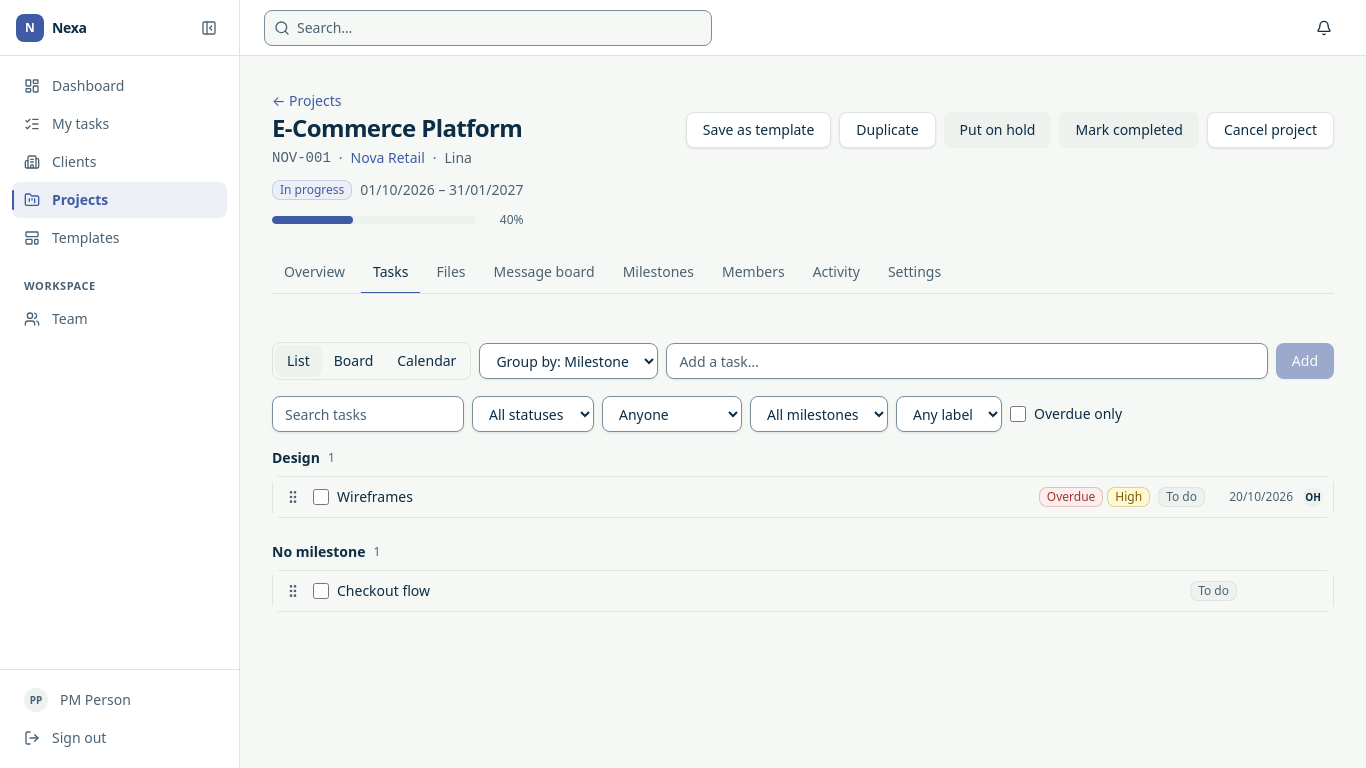
Project tasks (FR-TSK-09) › selecting tasks shows the bulk bar and sends one bulk request (FR-TSK-11)
Click the checkbox named "Select Wireframes".
click(321, 497)  # box [313, 489, 329, 505]
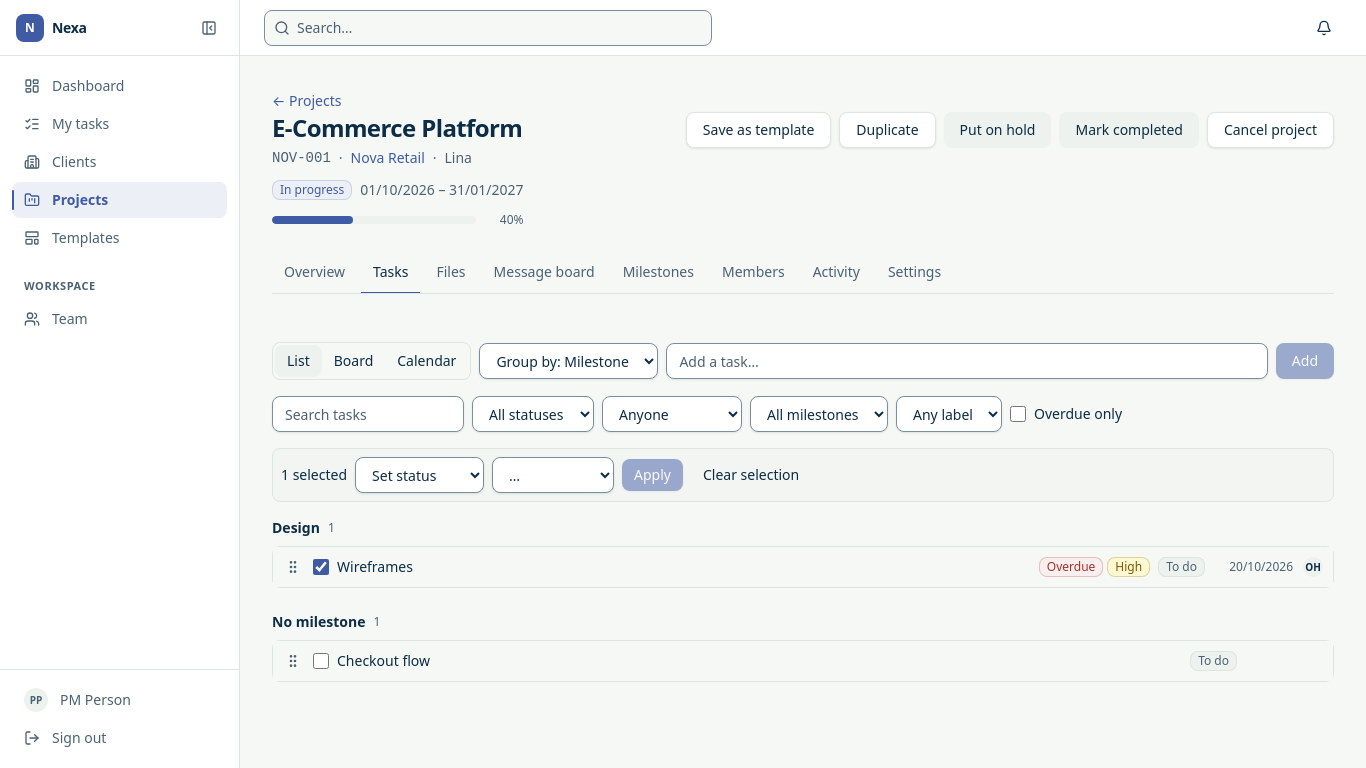
Click the checkbox named "Select Checkout flow".
click(321, 661)  # box [313, 653, 329, 669]
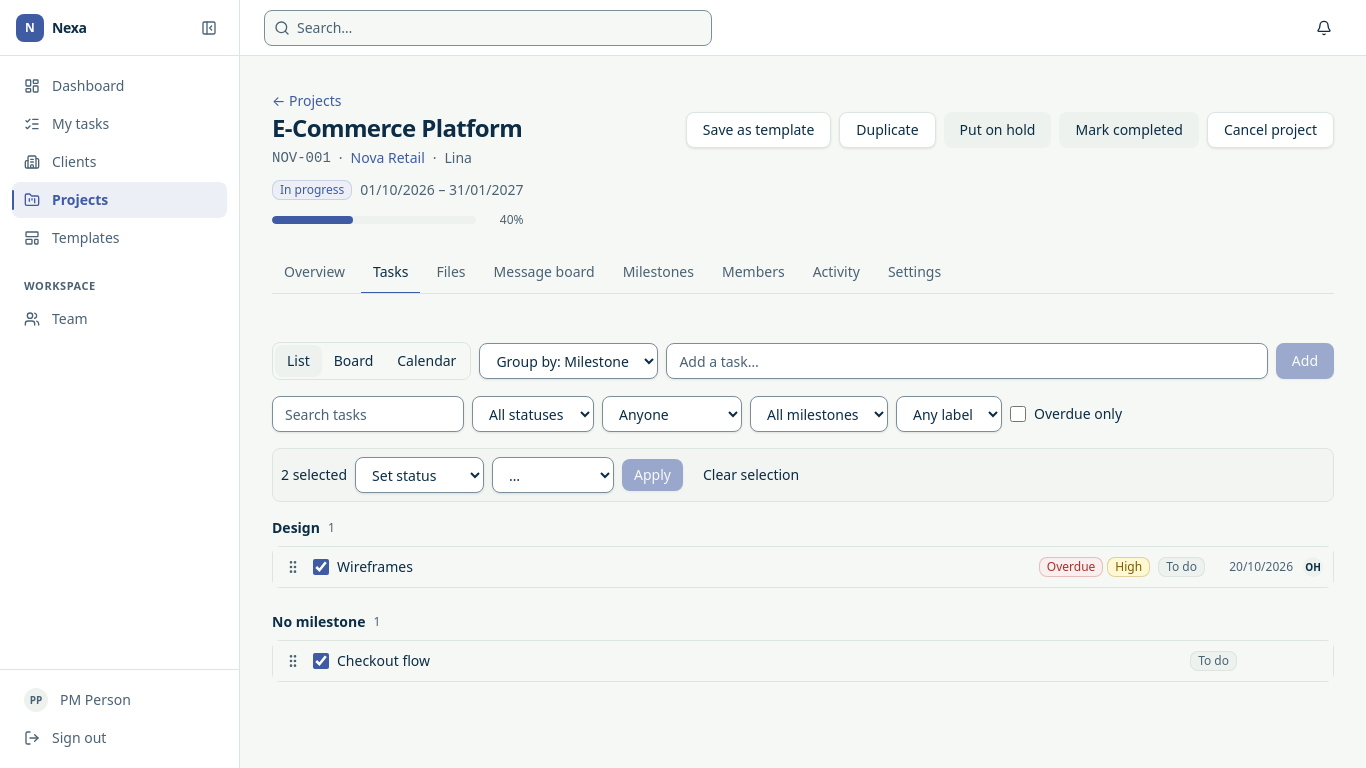
Select "In progress" in the dropdown named "Set status" at [553, 475], box [492, 457, 614, 493]
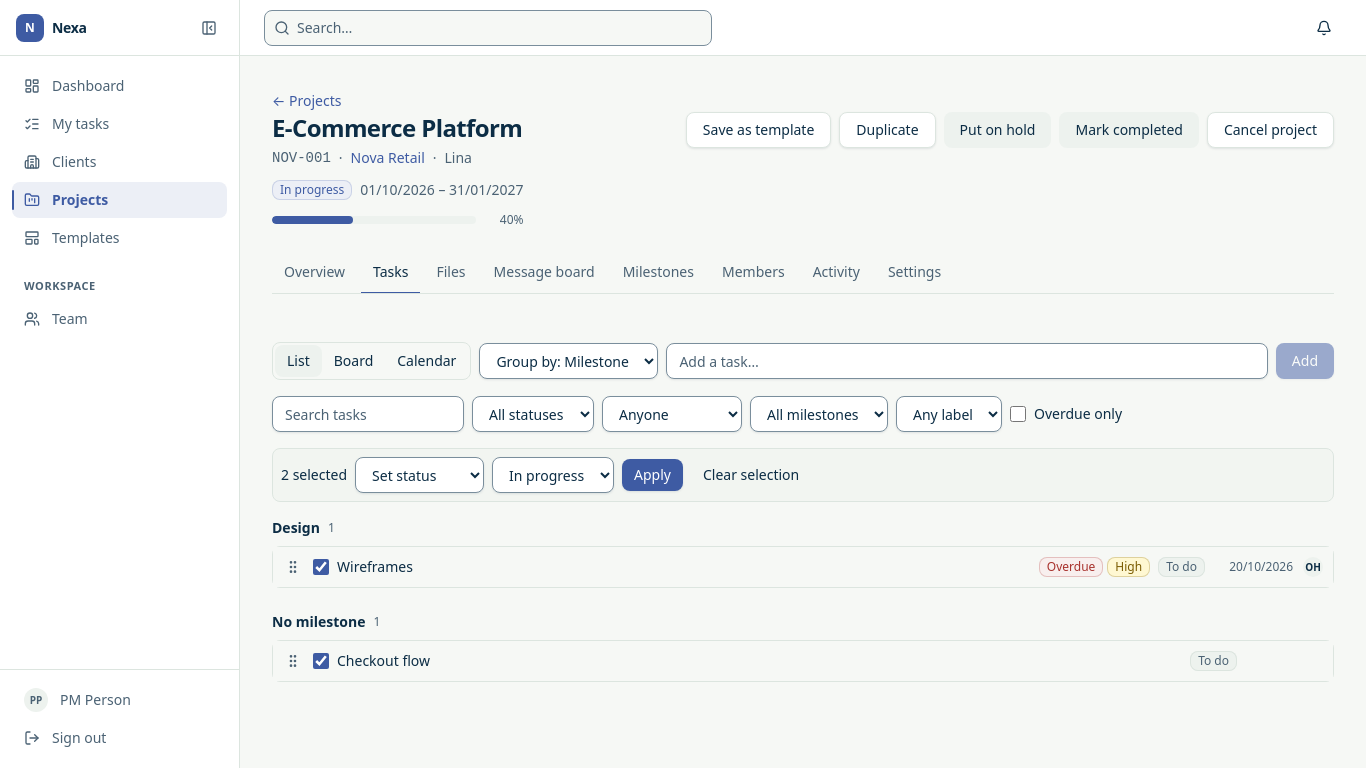
Click the button "Apply".
click(652, 475)  # box [622, 459, 683, 491]
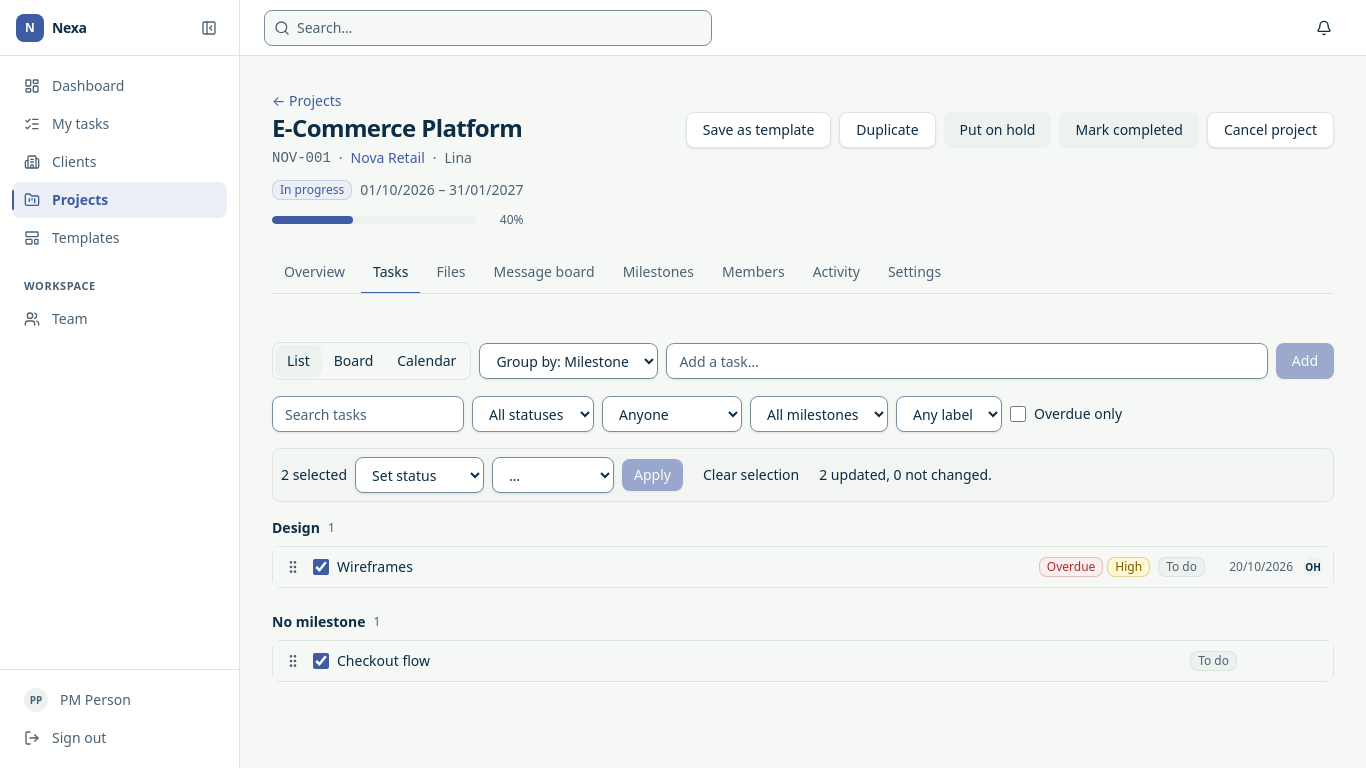
Check: the text "2 updated, 0 not changed." is shown, box [819, 465, 992, 485]
